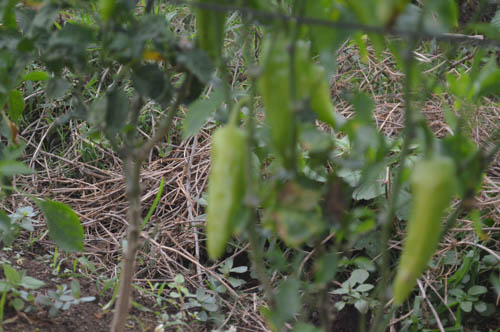ChiliPepper: (387, 160, 454, 305), (207, 127, 244, 263)
